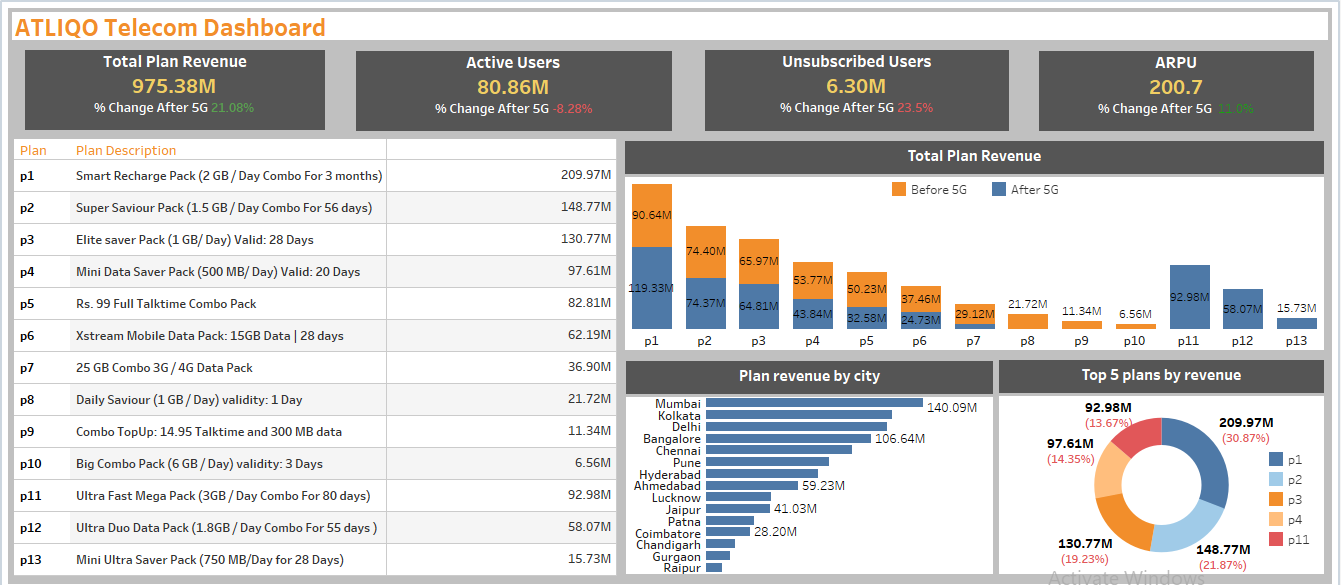

What the dashboard file says about the page in this screenshot:
{"tool":"tableau","page":{"name":"Dashboard 2","canvas":[1000,1000],"units":"permille","ordinal":1},"visuals":[{"type":"title","box":[6,13.5,988.1,60.8]},{"type":"worksheet","title":"Plan Revenue","mark":"Automatic","box":[6,74.3,242.8,153.7]},{"type":"worksheet","title":"AU","mark":"Automatic","box":[248.7,74.3,271.5,153.7]},{"type":"worksheet","title":"USU","mark":"Text","box":[520.3,74.3,247.2,153.7]},{"type":"worksheet","title":"ARPU","mark":"Automatic","box":[767.5,74.3,226.5,153.7]},{"type":"worksheet","title":"Plan","mark":"Automatic","rows":["plan","plan_description"],"box":[10.5,234.8,450,738.2]},{"type":"worksheet","title":"Plan wise revenue","mark":"Automatic","rows":["Calculation_1364027785735270403"],"cols":["plan"],"box":[466.4,238.2,521.6,353]},{"type":"legend","title":"Plan wise revenue","param":"[federated.09lxh2o0y9f70t17g6btb0fhgqdw].[none:before/after_5g:nk]","box":[663.4,302.4,157.5,57.4]},{"type":"worksheet","title":"Top 5 plans","mark":"Pie","rows":["Calculation_1364027785738661897","Calculation_1364027785738686475"],"box":[745.5,608.1,242.5,361.5]},{"type":"worksheet","title":"City by plan revenue","mark":"Automatic","rows":["city_name"],"cols":["Calculation_1364027785735270403"],"box":[467.2,609.8,273.9,359.8]},{"type":"legend","title":"Top 5 plans","param":"[federated.09lxh2o0y9f70t17g6btb0fhgqdw].[none:plan:nk]","box":[944.8,758.5,38.1,190.9]}]}

Visuals, with their boxes on the dashboard's canvas, which has no fixed pixel size, in thousandths of its width and height (x1, y1, x2, y2). These are canvas units, not pixel positions in the 1341x585 screenshot, which may show the page scaled, cropped or inside an application window:
title: crop(6, 14, 994, 74)
"Plan Revenue" worksheet: crop(6, 74, 249, 228)
"AU" worksheet: crop(249, 74, 520, 228)
"USU" worksheet (Text marks): crop(520, 74, 768, 228)
"ARPU" worksheet: crop(768, 74, 994, 228)
"Plan" worksheet: crop(10, 235, 460, 973)
"Plan wise revenue" worksheet: crop(466, 238, 988, 591)
"Plan wise revenue" legend: crop(663, 302, 821, 360)
"Top 5 plans" worksheet (Pie marks): crop(746, 608, 988, 970)
"City by plan revenue" worksheet: crop(467, 610, 741, 970)
"Top 5 plans" legend: crop(945, 758, 983, 949)
